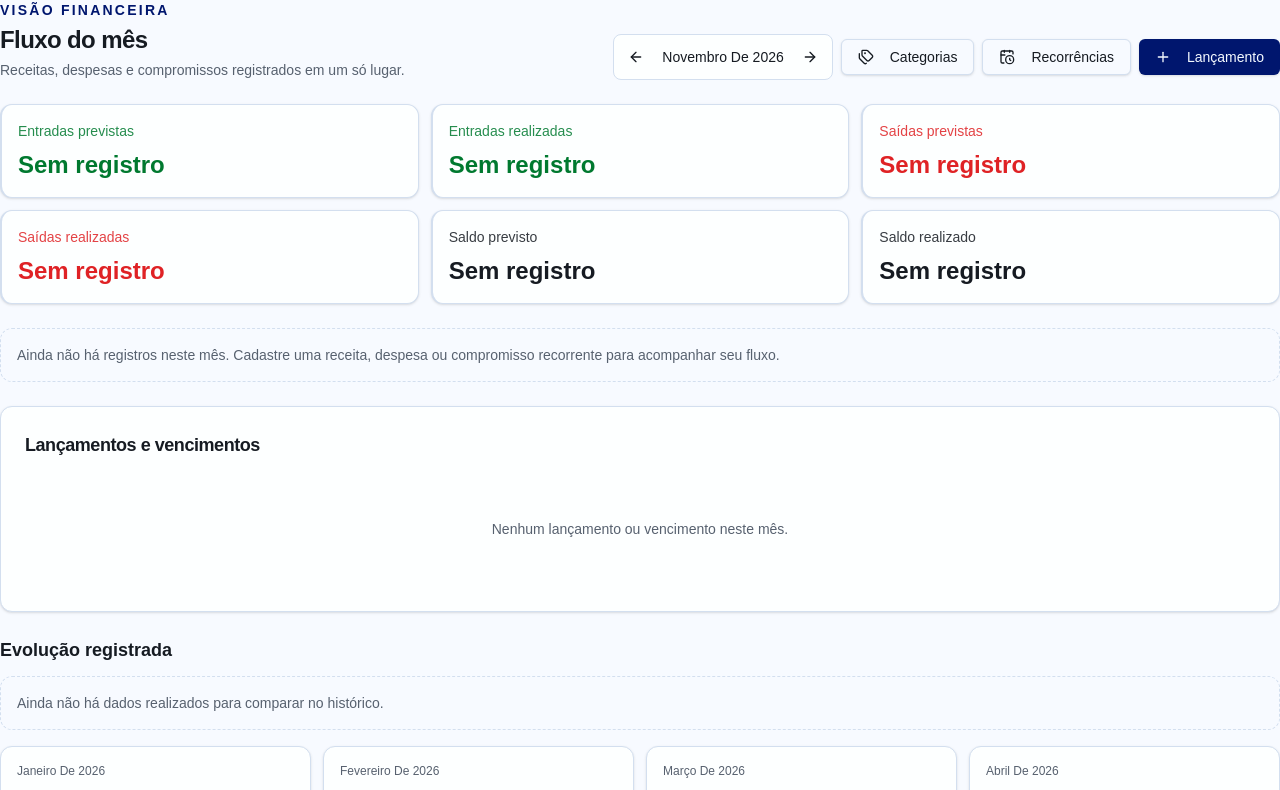
Test: FinancialOverview › opens a central new-entry dialog with category and paired expected/actual dates
Expected: the text "Ainda não há registros neste mês" is shown, left=17, top=347, right=780, bottom=363
Click the button "Lançamento". click: (1209,57)
box: left=1139, top=39, right=1279, bottom=75
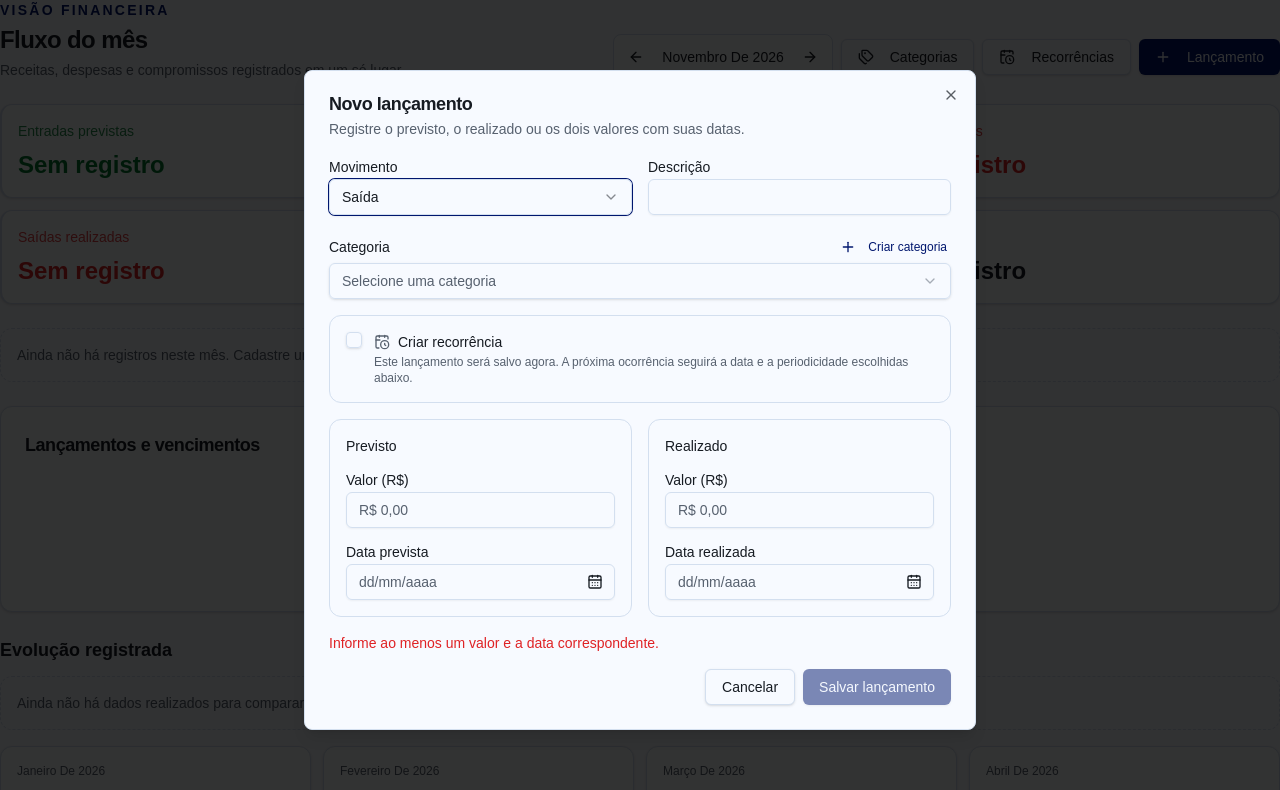
Result: the dialog "Novo lançamento" is shown at left=304, top=70, right=976, bottom=730
Result: the text "Categoria" is shown at left=329, top=240, right=390, bottom=254
Result: the text "Previsto" is shown at left=346, top=438, right=397, bottom=454
